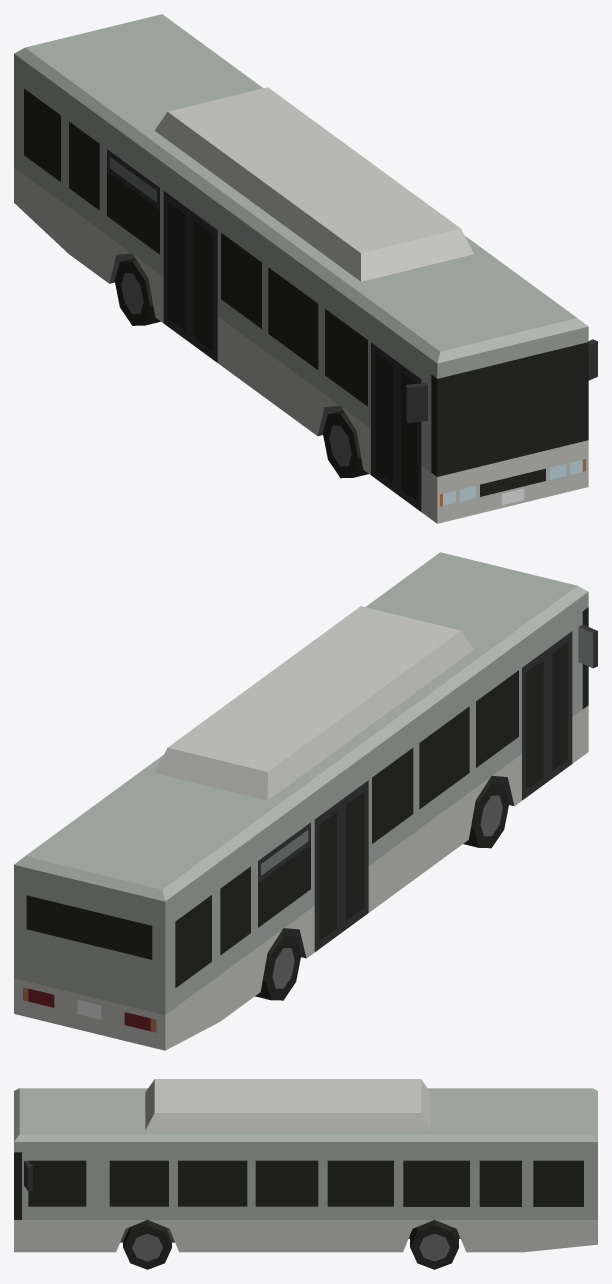
The model's file is Veh_Bus_01_White.glb.
The picture shows the model from 3 angles, top to bottom: view 1: azimuth 30°, elevation 25°; view 2: azimuth 150°, elevation 25°; view 3: azimuth 270°, elevation 25°; orthographic projection. The views are drawn at different scales.
Visible parts, largest first — view 1: Bus_01_White, Wheel_RR, Wheel_FR; view 2: Bus_01_White, Wheel_RR, Wheel_FR; view 3: Bus_01_White, Wheel_RL, Wheel_FL.
Part boxes in pixels (left/top/right/bottom): Bus_01_White: left=14, top=14, right=597, bottom=523; Wheel_RR: left=114, top=258, right=160, bottom=325; Wheel_FR: left=323, top=410, right=368, bottom=478; Bus_01_White: left=14, top=552, right=597, bottom=1050; Wheel_RR: left=255, top=933, right=301, bottom=1000; Wheel_FR: left=463, top=780, right=509, bottom=848; Bus_01_White: left=14, top=1079, right=597, bottom=1252; Wheel_RL: left=410, top=1220, right=458, bottom=1269; Wheel_FL: left=123, top=1220, right=171, bottom=1269.
Bounding box in the file's own units: 1.7 × 1.83 × 6.53.
Materials: 1 (1 with a texture image).
